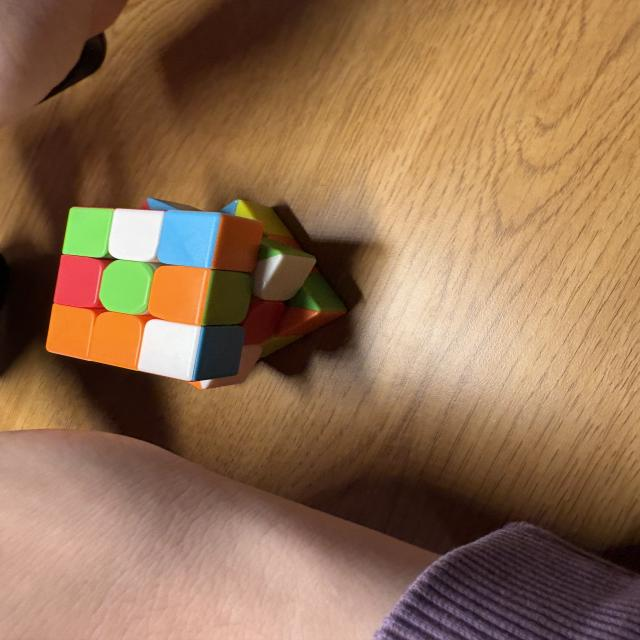Rubiks Cube: (46, 198, 349, 391)
